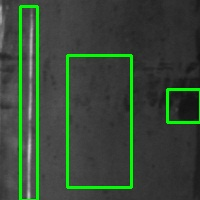patches: (167, 89, 200, 122)
pitted_surface: (67, 55, 131, 187)
scratches: (21, 7, 37, 200)
